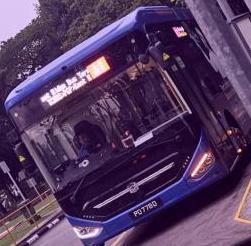bus: (86, 57, 111, 78)
